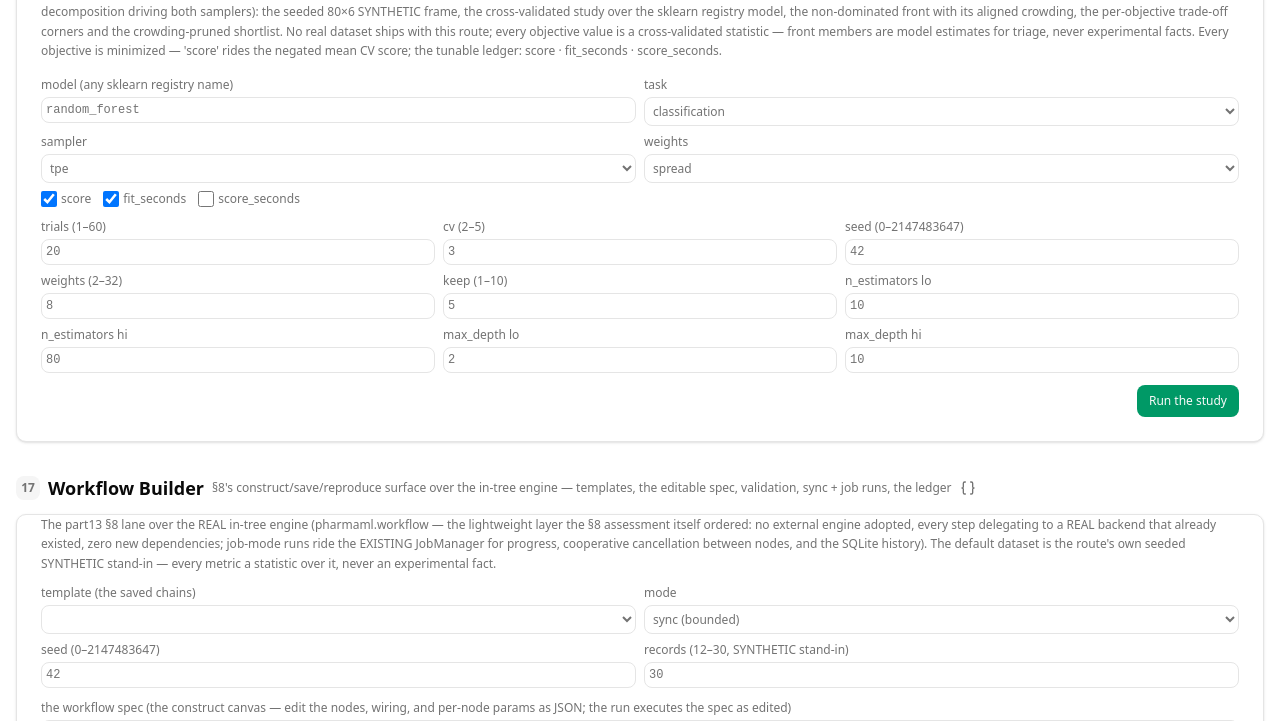
Test: the multi-objective optimization lane of the Machine Learning workspace › runs the study round trip and renders the front table
(page scrolled)
Click the button "Run the study": (1188, 401) [1137,385,1239,417]
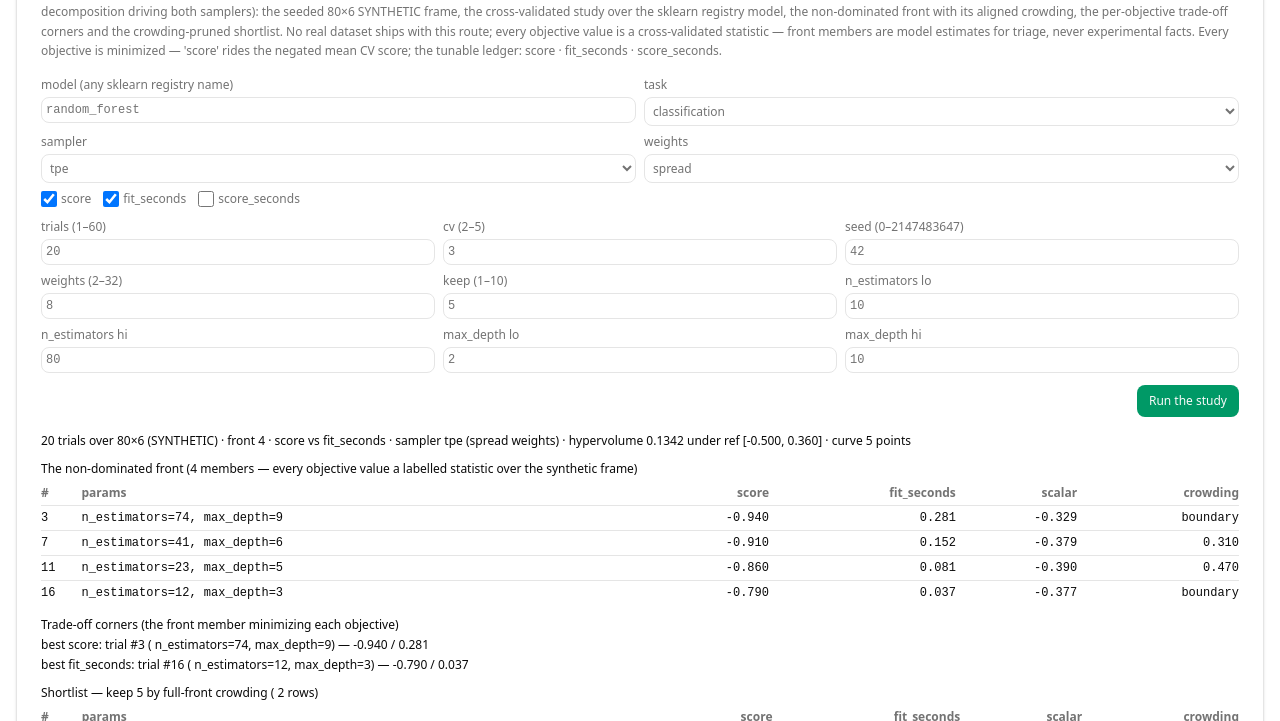
Check: the text "score vs fit_seconds" is shown, box [275,432,386,449]
Check: the text "curve 5 points" is shown, box [41,432,911,449]
Check: the text "The non-dominated front (4 members" is shown, box [41,460,638,477]
